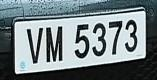3: (124, 17, 141, 57), (91, 21, 108, 59)
5: (73, 21, 91, 64)
7: (107, 19, 125, 57)
M: (45, 23, 65, 67)
V: (24, 24, 45, 66)
